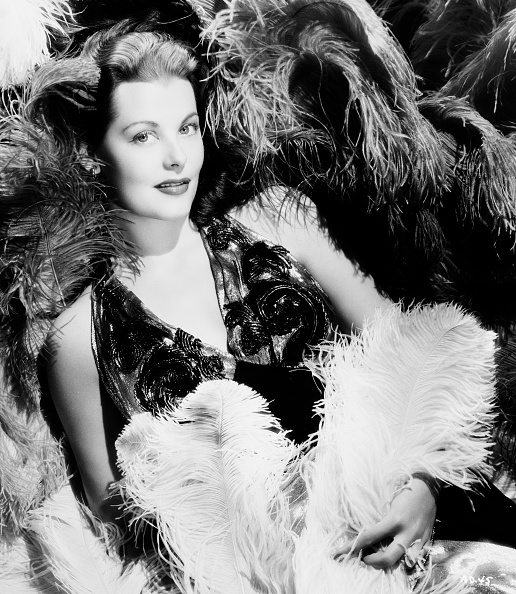deitado: (16, 37, 300, 593)
